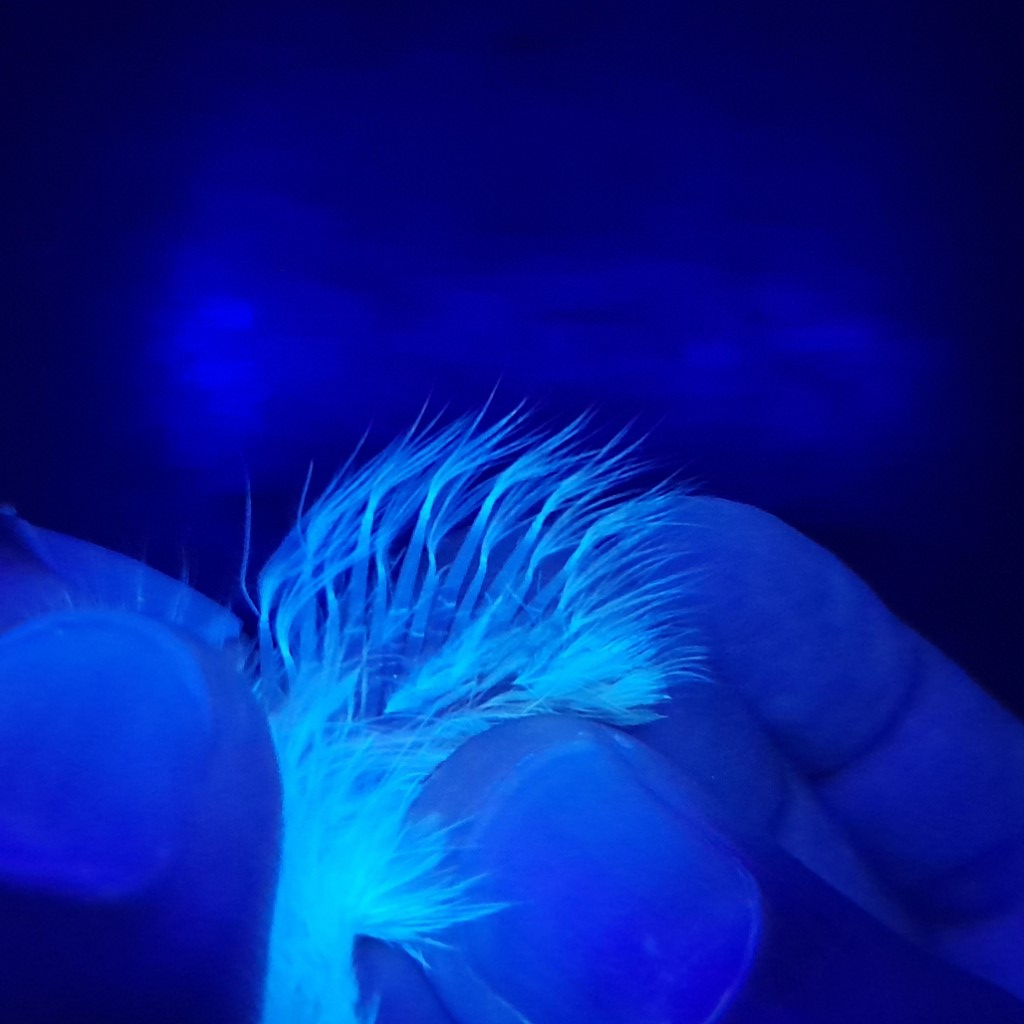female: (263, 473, 596, 768)
